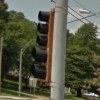Traffic light: (22, 7, 68, 82)
